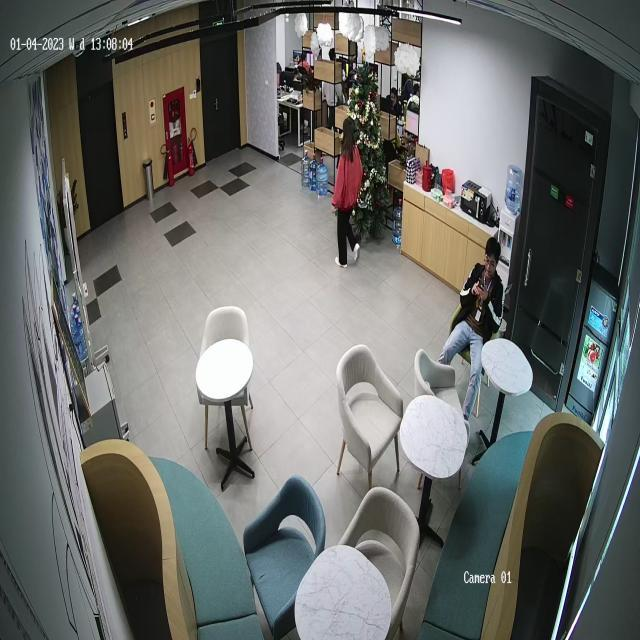person: (438, 237, 505, 425), (331, 116, 364, 267)
